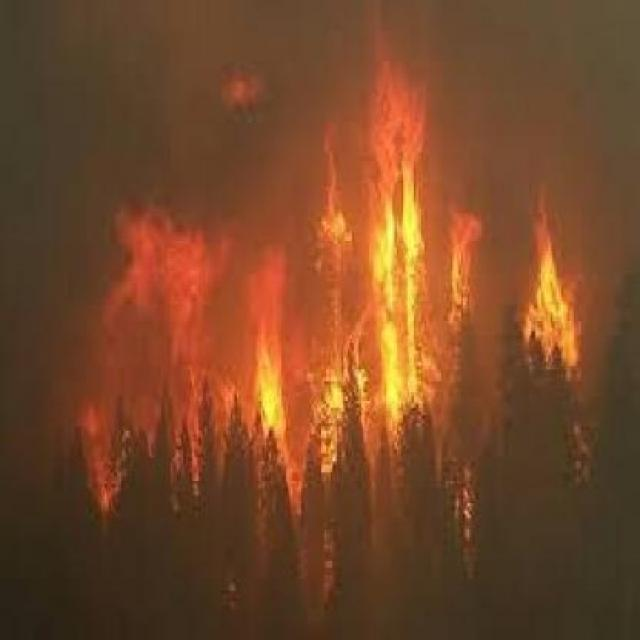Fire: (28, 114, 554, 534)
